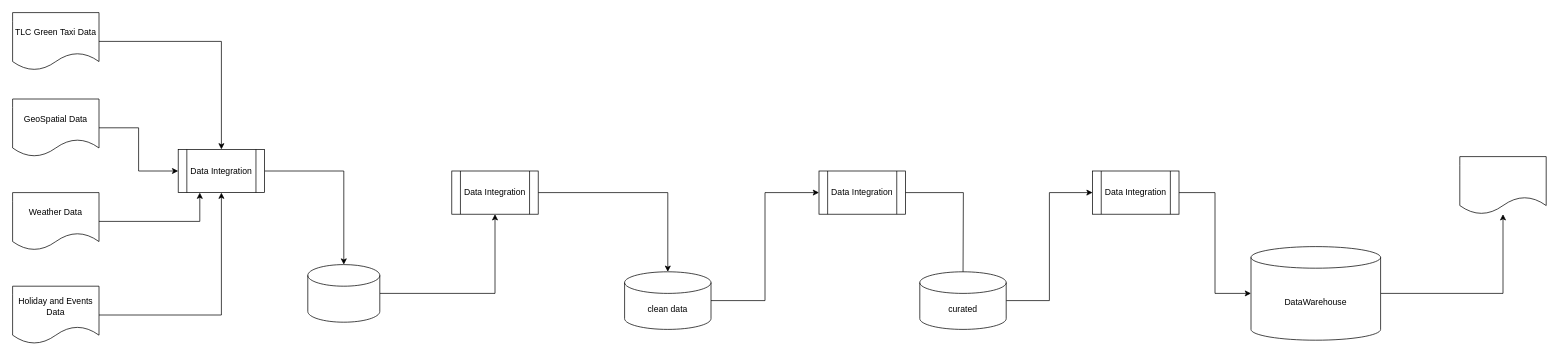
Some shapes in this 1559 by 356 pixel diagram are drawn without their labels. Here are the shapes that lost their labels. From the top down, the centre of each, then its label:
point 1502,185: BI Solutions
point 343,293: raw storage
